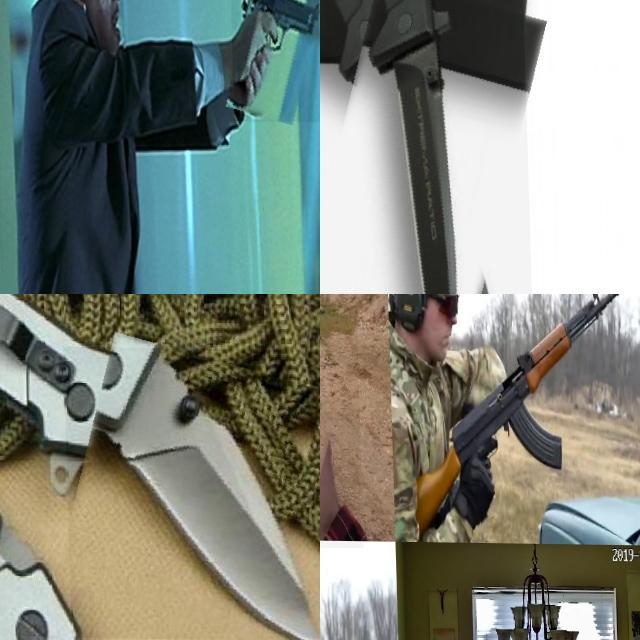-: (61, 345, 320, 640), (320, 0, 530, 294)
gun-knife-thesis - v11 Yolov5 augmented: (385, 294, 640, 513), (320, 294, 427, 547), (229, 0, 320, 120)
